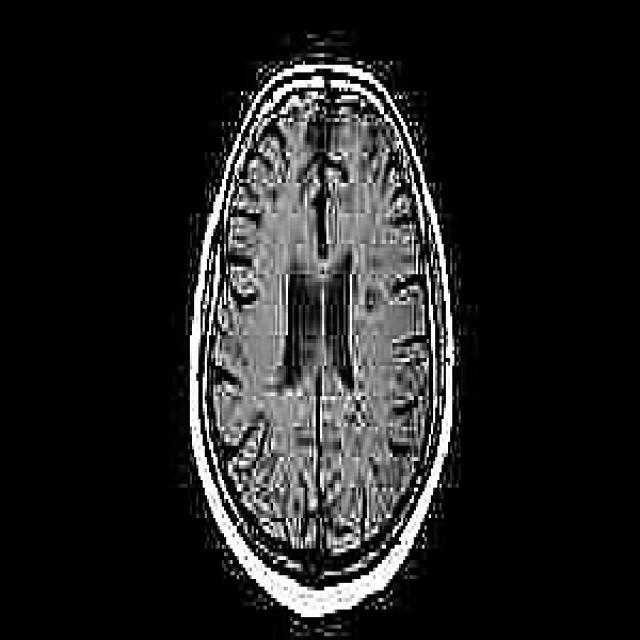notumor: (190, 65, 459, 621)
